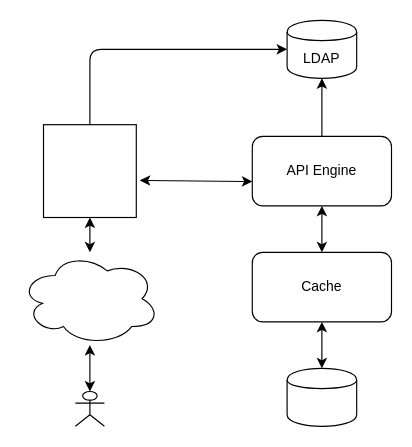
Some shapes in this 412 by 447 pixel diagram are drawn without their labels. The box of each missing label's shape, as (x1, y1, x2, y2) in pixels:
DB: (286, 367, 357, 426)
Proxy and LB (nginx/envoy): (42, 124, 136, 217)
